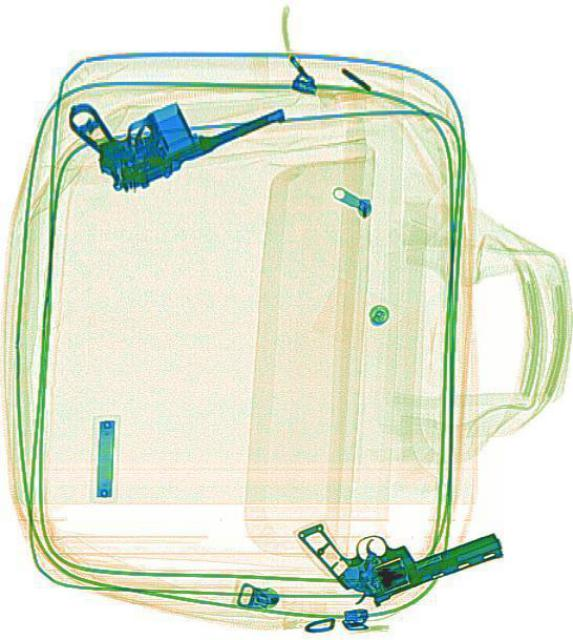Gun: (60, 22, 289, 206), (296, 467, 505, 623)
